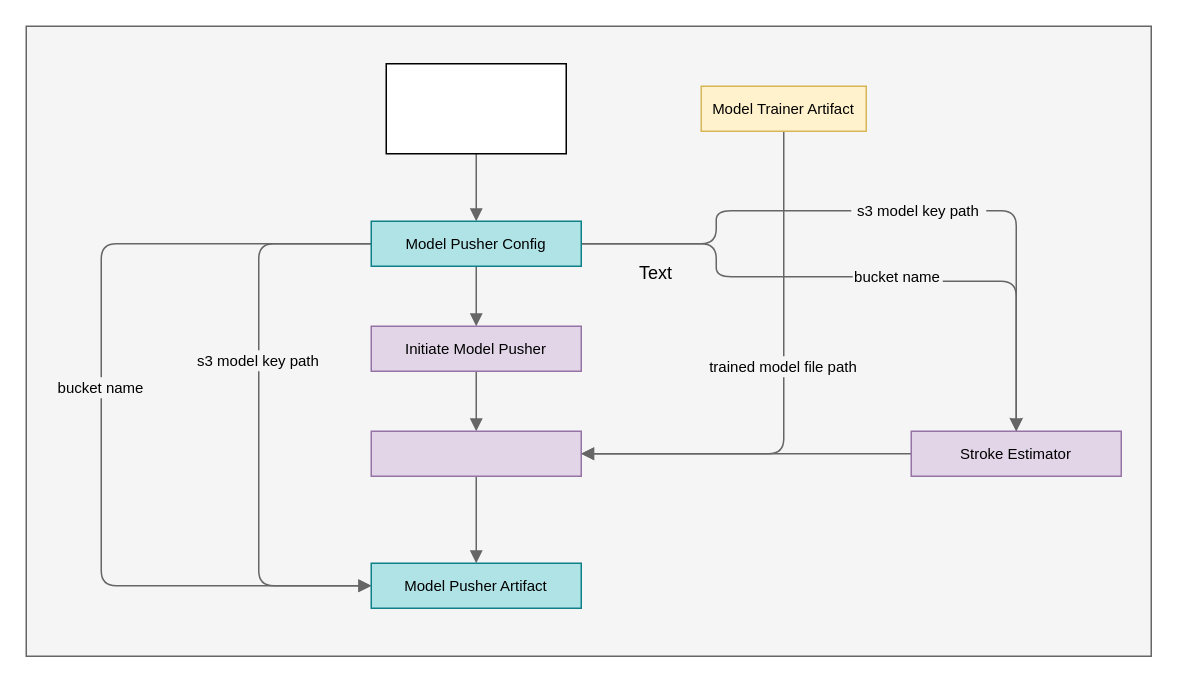
This 1178x683 diagram has some shape labels left out. Each missing label, with the box of its shape:
bucket name s3 model key path: (385, 62, 566, 154)
Save model: (370, 430, 581, 476)
